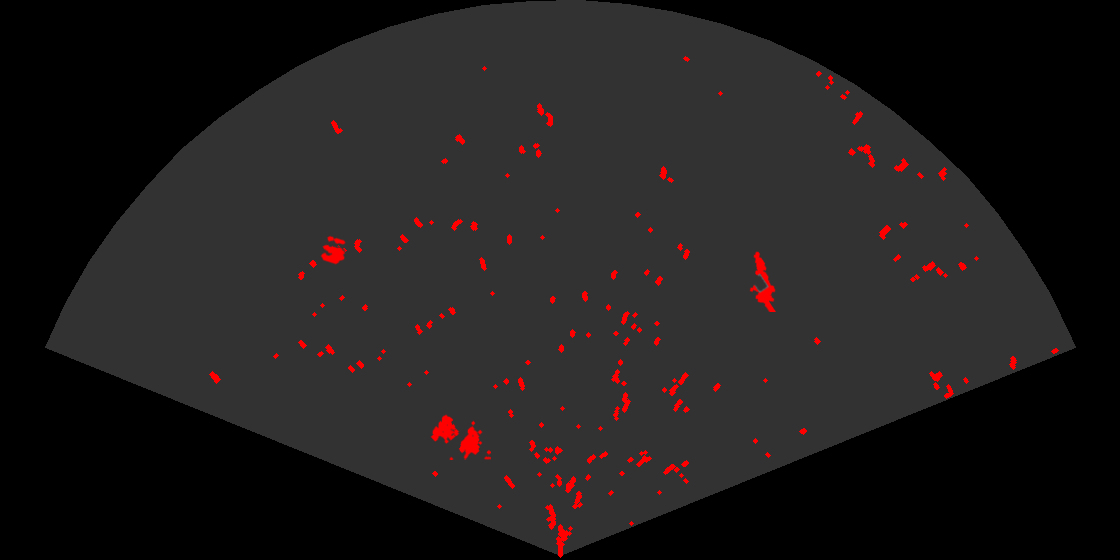ball: (319, 234, 347, 266)
cage: (429, 413, 491, 460)
frogman: (748, 250, 777, 312)
